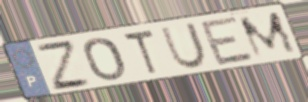E: (197, 14, 258, 68)
M: (236, 9, 300, 61)
O: (81, 36, 128, 83)
T: (120, 28, 161, 77)
U: (158, 21, 210, 71)
Z: (32, 39, 95, 93)
